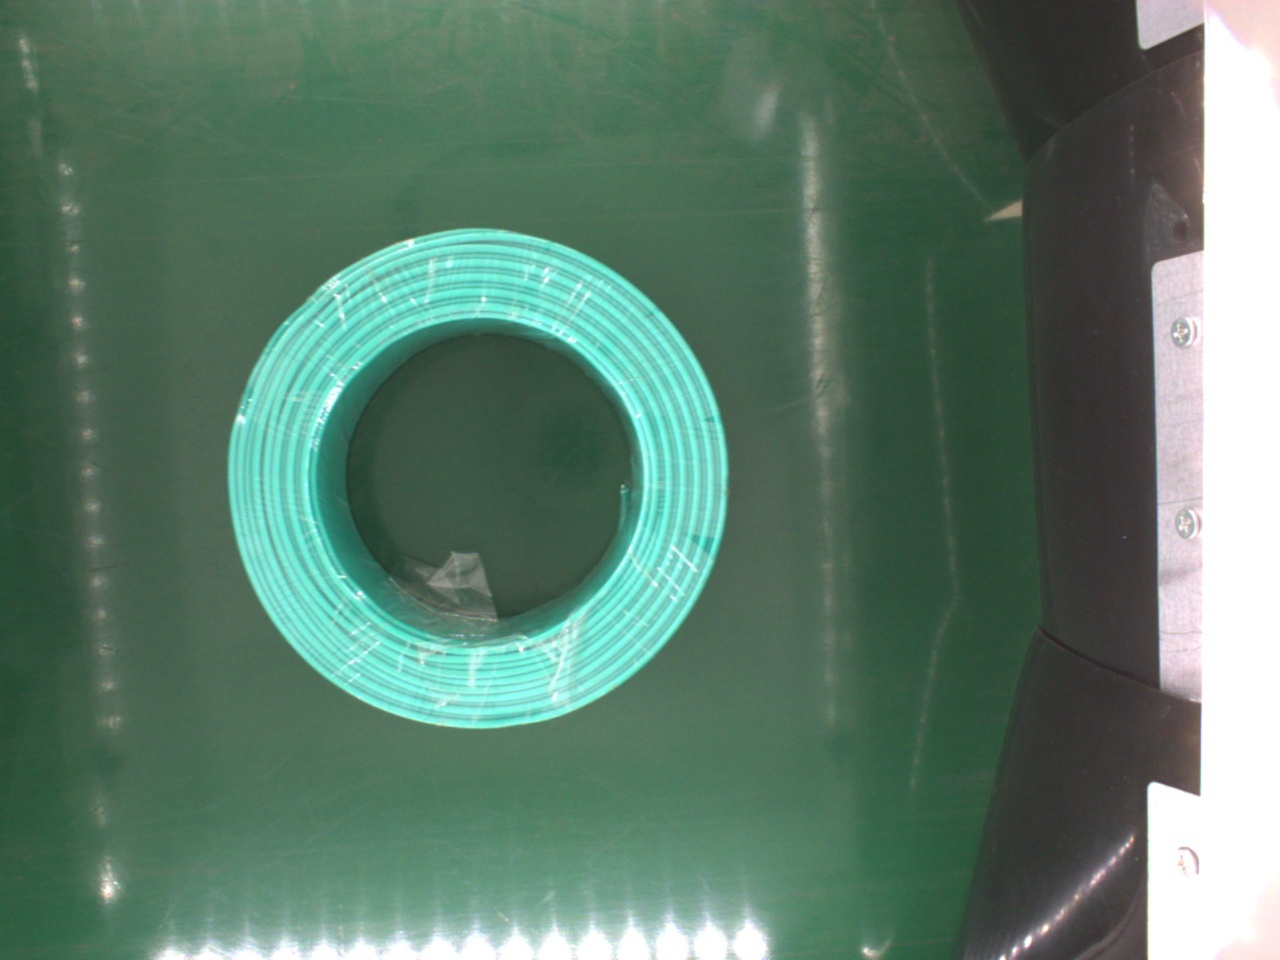green: (220, 226, 728, 732)
